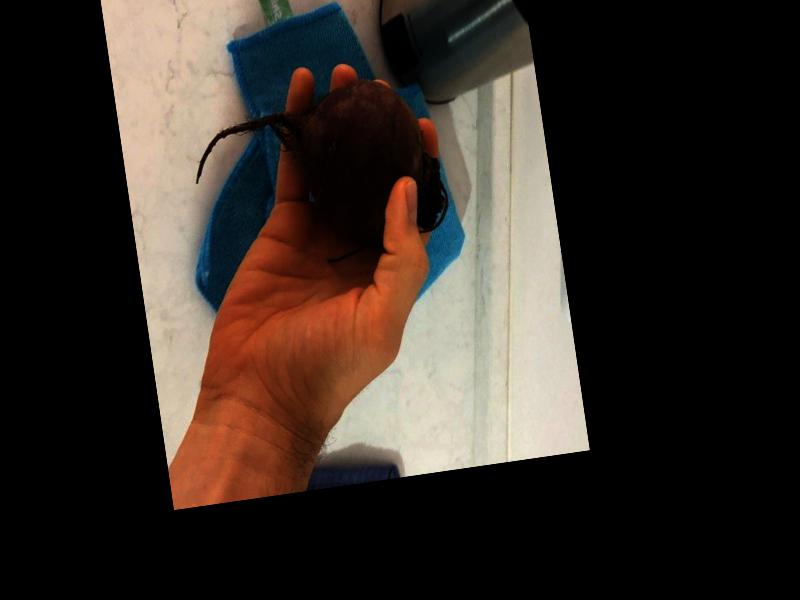Beet: (185, 70, 453, 279)
